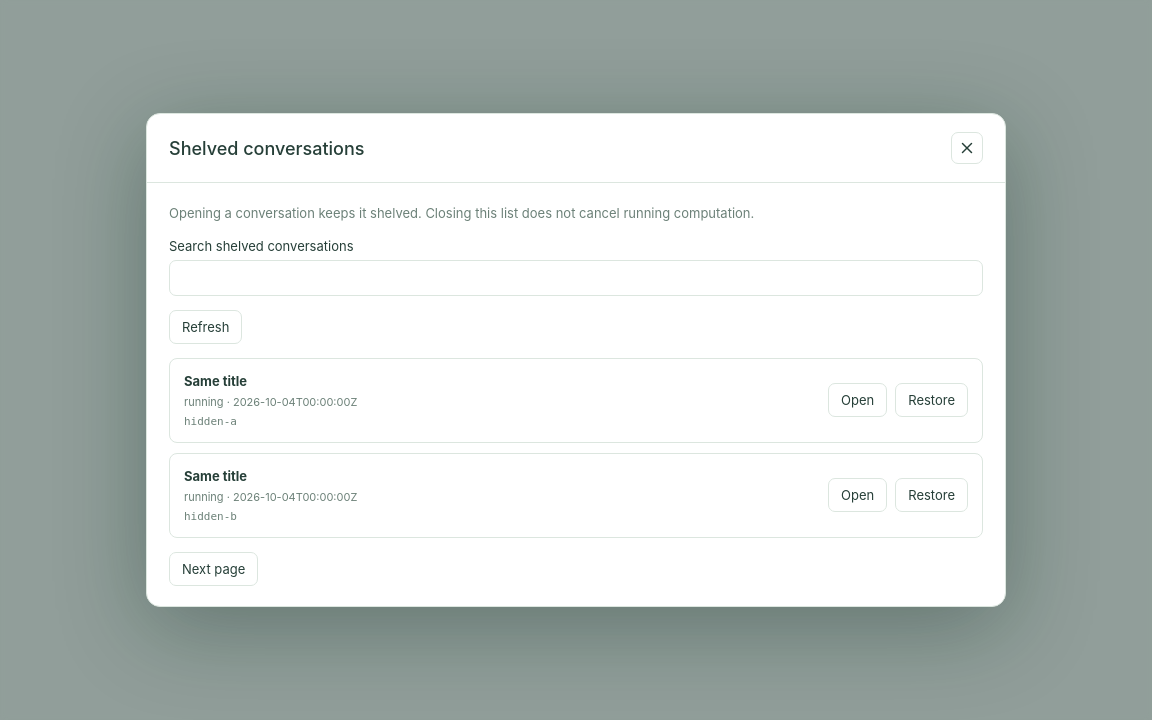
Test case: visibility_dialog_query_and_page resets refresh and restore to page zero using row ID/revision
Expected: the text "hidden-b" is shown, [184,510,237,523]
Click the button "Next page" at [214, 569], box [169,552,258,586]
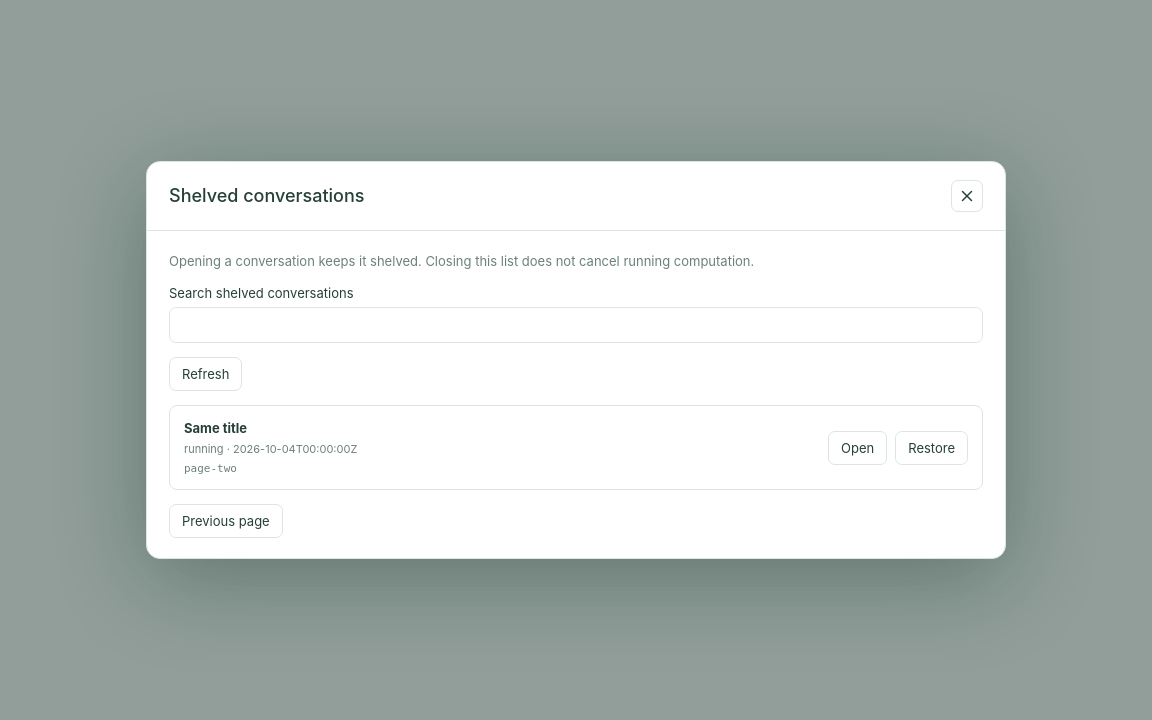
Expected: the text "page-two" is shown, [184,462,237,475]
Expected: the text "hidden-a" is gone
Click the button "Refresh" at [206, 374], box [169,357,242,391]
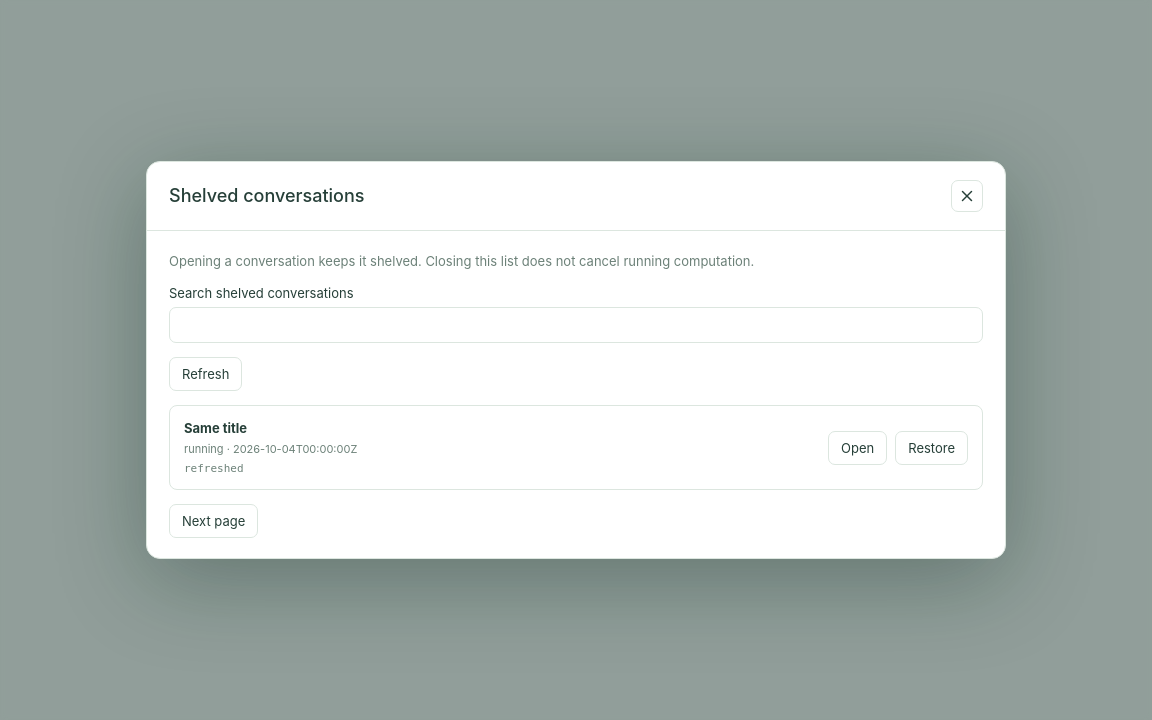
Expected: the text "refreshed" is shown, [184,462,244,475]
Click the button "Next page" at [214, 521], box [169,504,258,538]
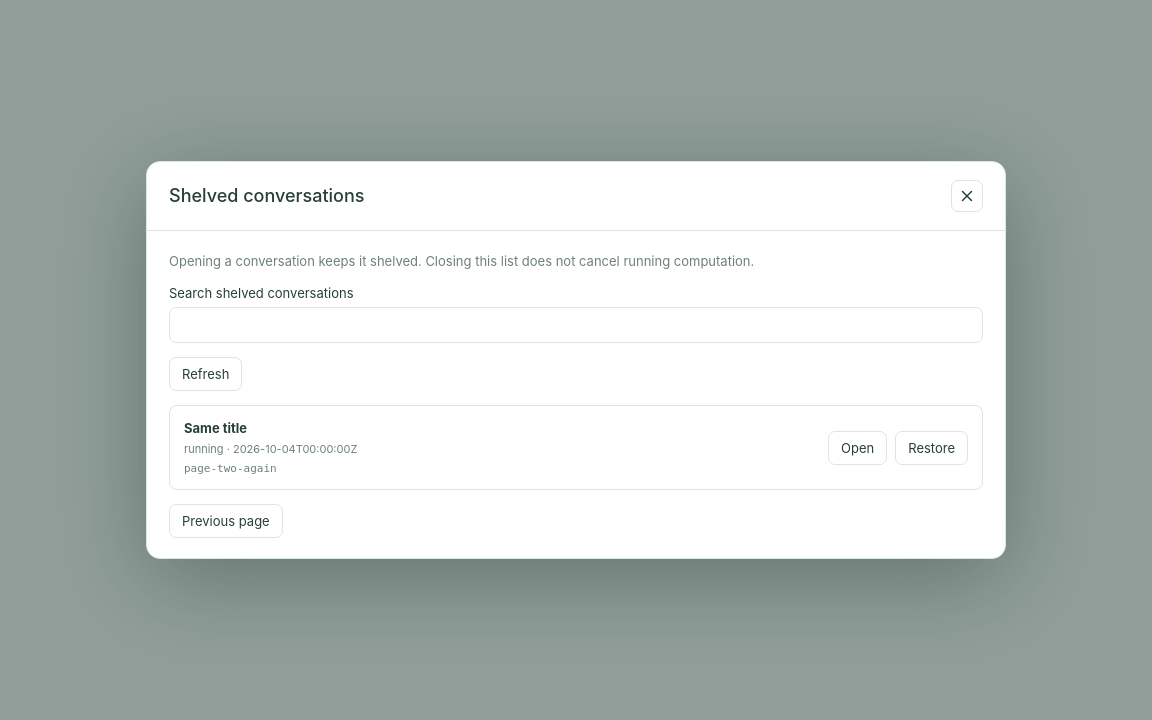
Expected: the text "page-two-again" is shown, [184,462,277,475]
Click the button "Restore" at [932, 448], box [895,431,968,465]
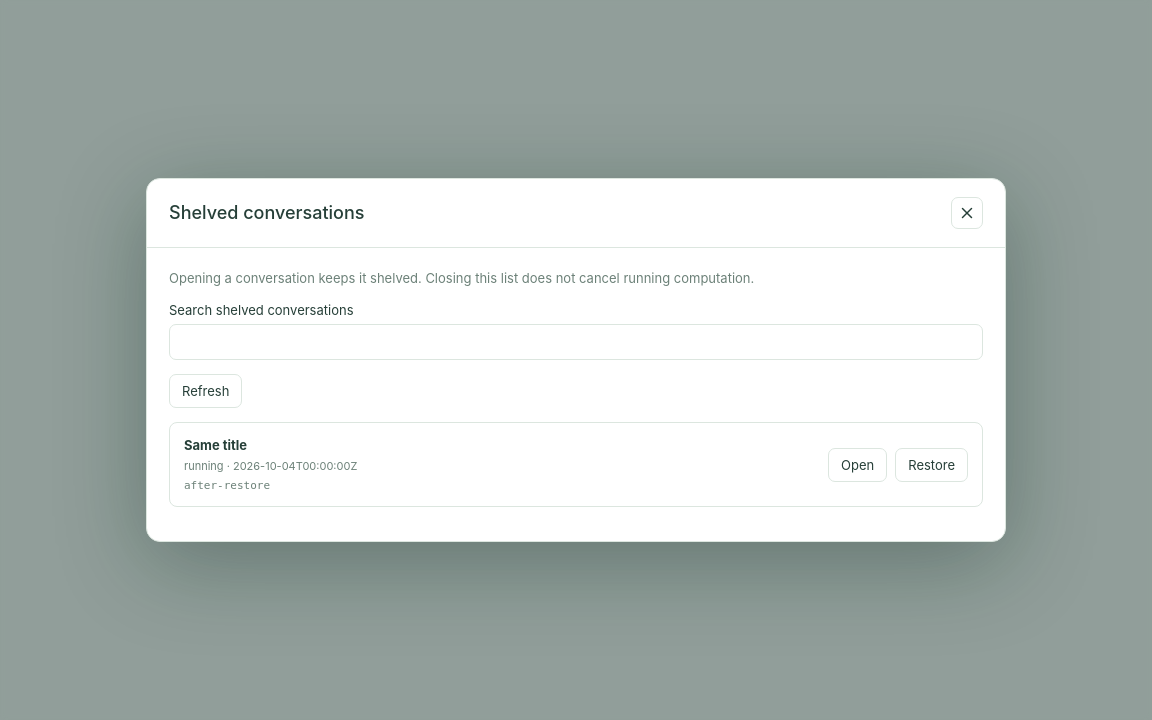
Expected: the text "after-restore" is shown, [184,479,270,492]
Type "RNA" into the field labelled "Search shelved conversations" at [576, 342], box [169,324,983,360]
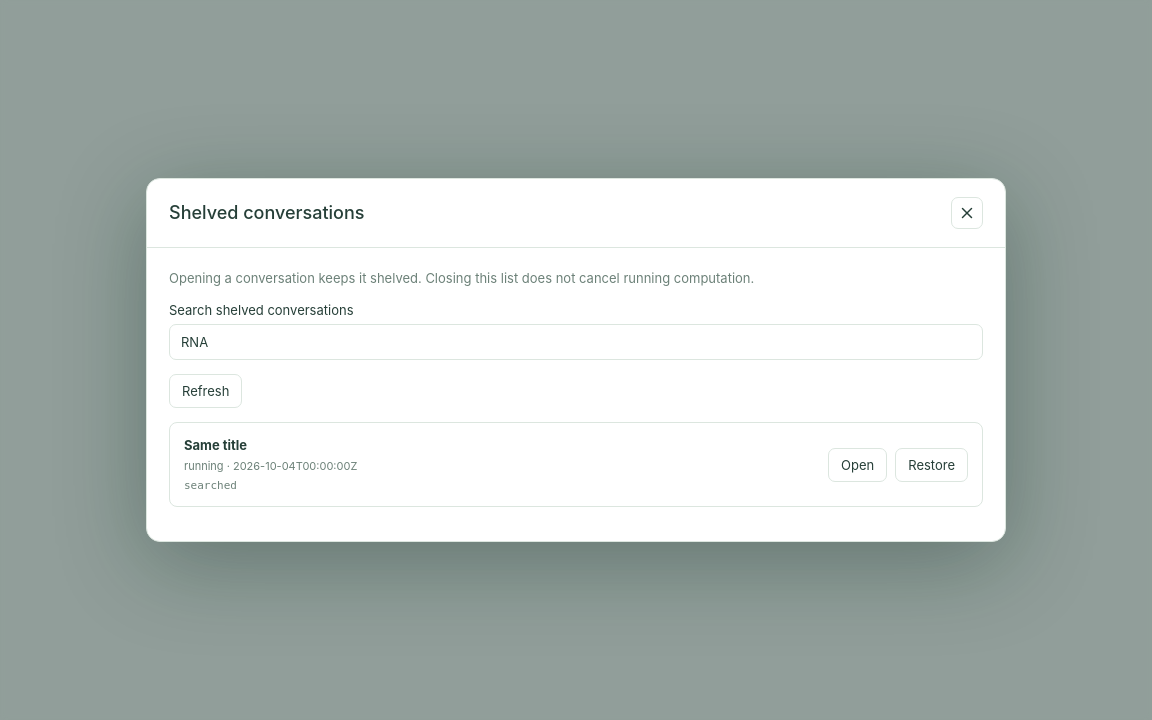
Expected: the text "searched" is shown, [184,479,237,492]
